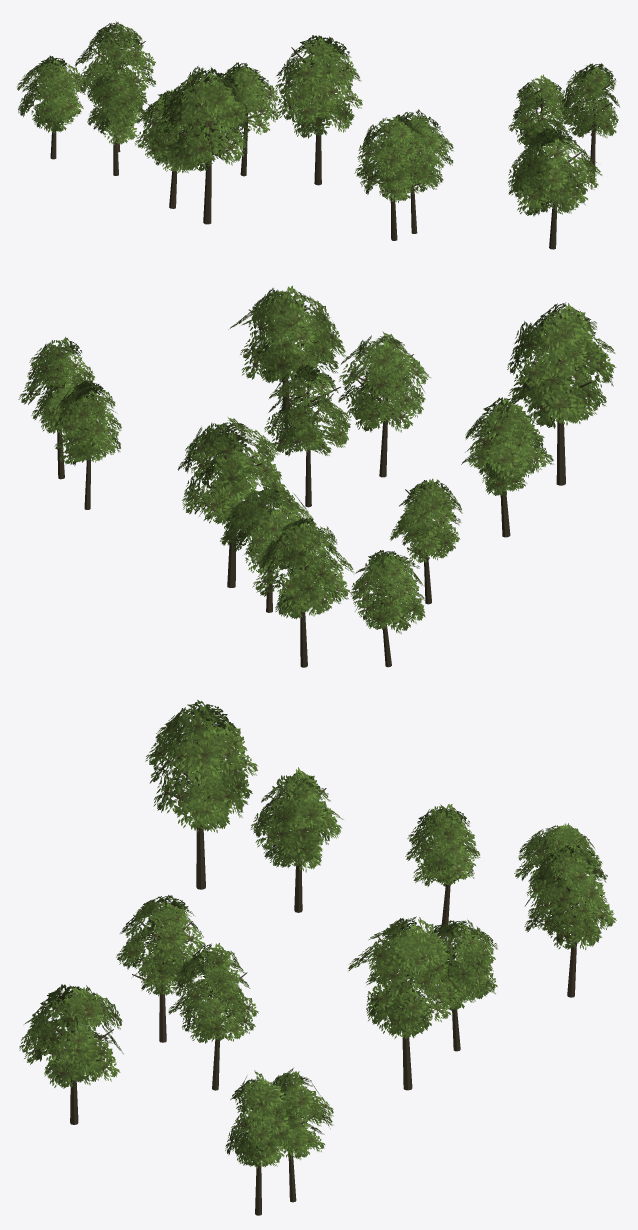
The model's file is TRB8-FOREST-CHUNK-3-1.glb.
3 renders of one model, top to bottom at view 1: azimuth 30°, elevation 25°; view 2: azimuth 150°, elevation 25°; view 3: azimuth 270°, elevation 25°, orthographic. The views are drawn at different scales.
Visible parts, largest first — view 1: TRB8-FOREST-CHUNK-3-1; view 2: TRB8-FOREST-CHUNK-3-1; view 3: TRB8-FOREST-CHUNK-3-1.
Part boxes in pixels (x1,y1,x2,y2): TRB8-FOREST-CHUNK-3-1: (17,21,619,249); TRB8-FOREST-CHUNK-3-1: (18,285,616,667); TRB8-FOREST-CHUNK-3-1: (19,700,616,1215).
Size of the model in its own units: 18.22 by 8.61 by 16.69.
Materials: 2 (1 with a texture image).
